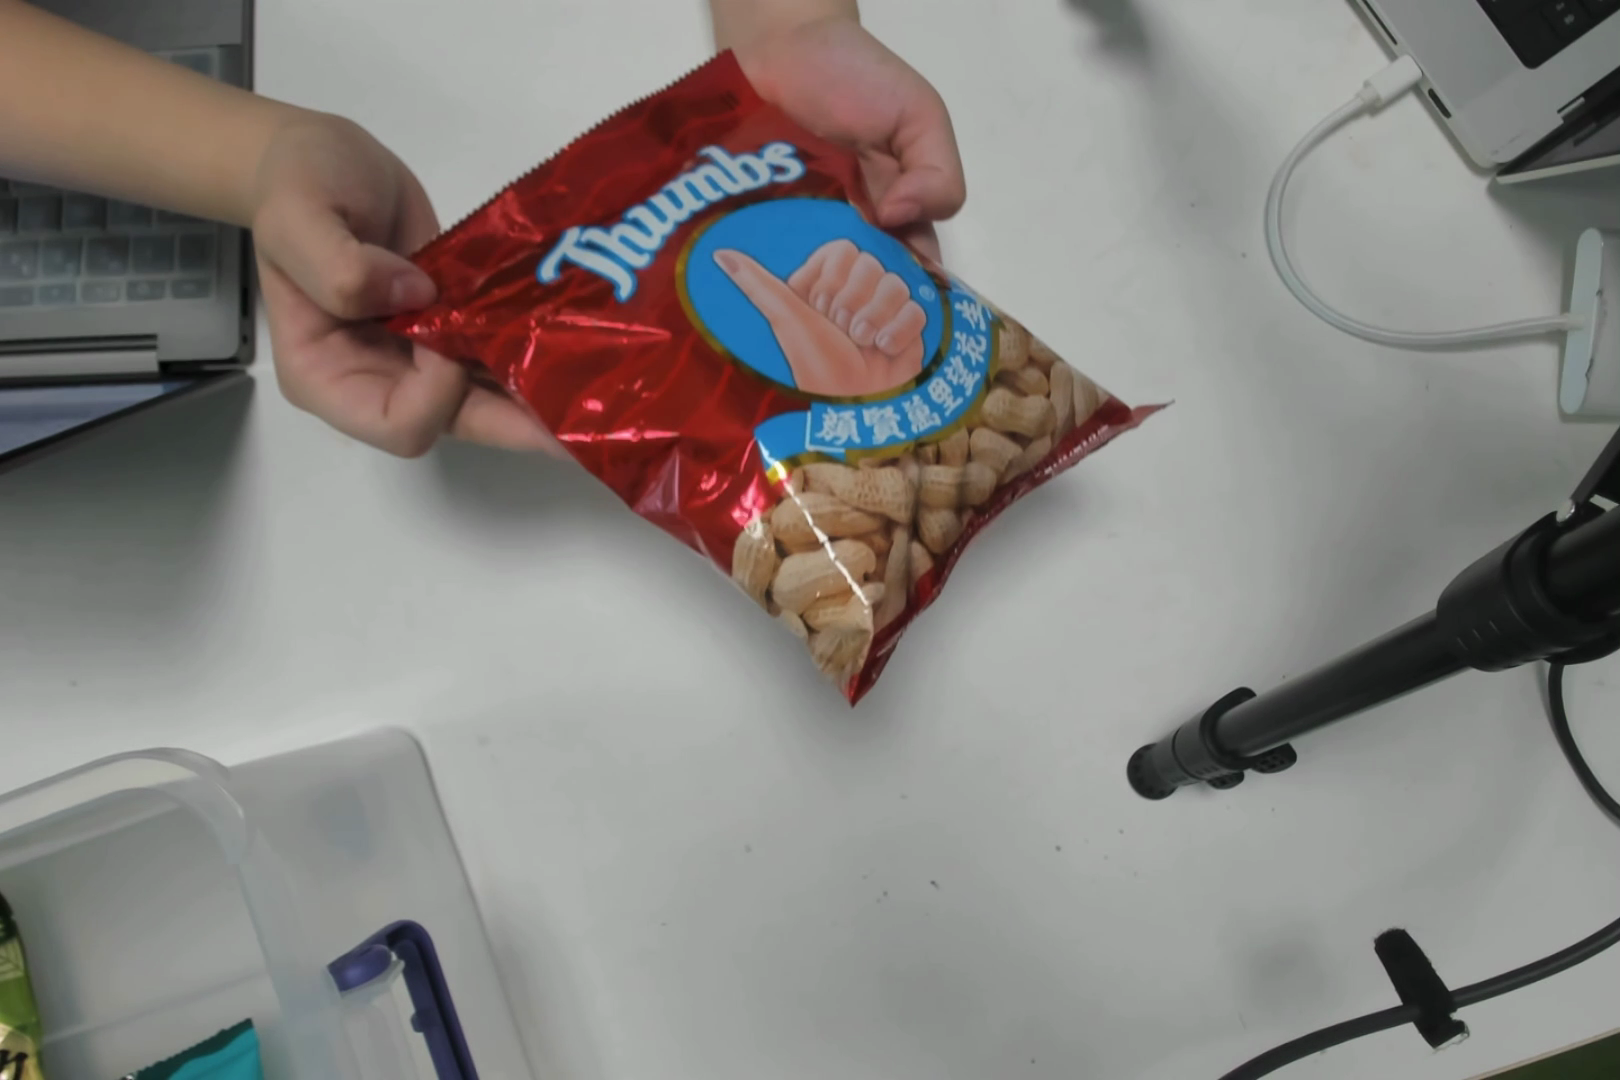Nuts_100-199g_Halal_NonHealthy: (565, 122, 1060, 651)
